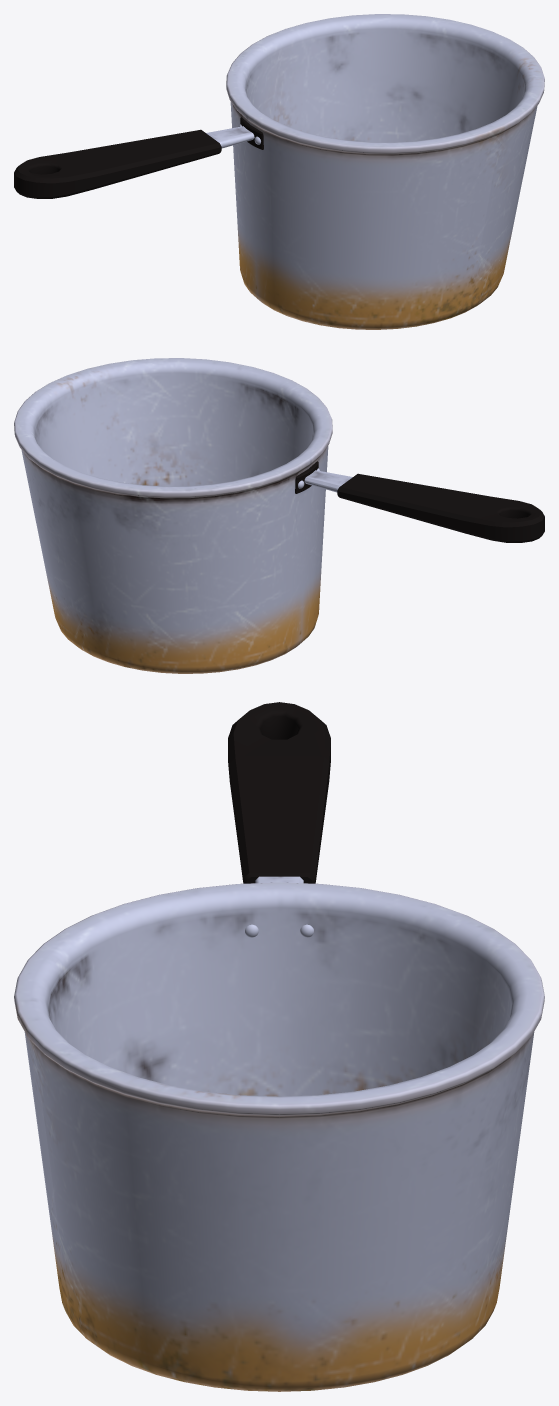
Rendered from SM_Pot03.fbx.
The picture shows the model from 3 angles, top to bottom: view 1: azimuth 30°, elevation 25°; view 2: azimuth 150°, elevation 25°; view 3: azimuth 270°, elevation 25°; orthographic projection. The views are drawn at different scales.
Parts seen in each view (by area): view 1: SM_Pot03_LOD0; view 2: SM_Pot03_LOD0; view 3: SM_Pot03_LOD0.
Boxes of the visible parts, x1,y1,x2,y2 form: SM_Pot03_LOD0: [14, 14, 544, 329]; SM_Pot03_LOD0: [14, 358, 544, 673]; SM_Pot03_LOD0: [14, 702, 544, 1391].
Size of the model in its own units: 71.76 by 39.13 by 26.31.
Materials: 1 (1 with a texture image).
